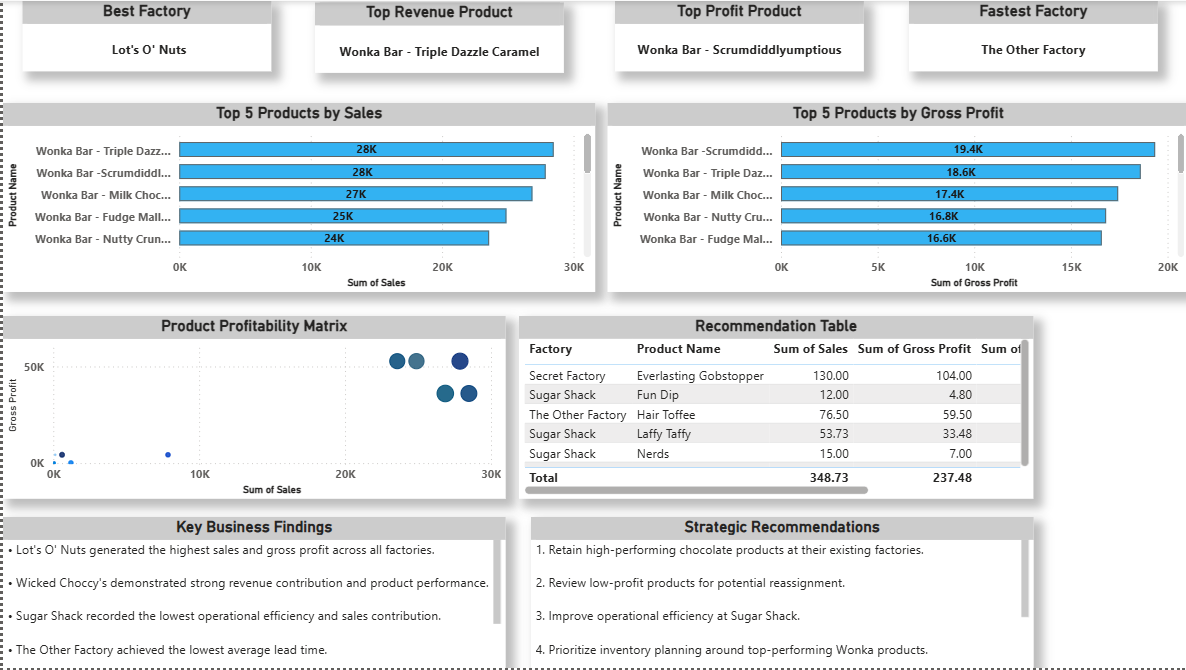

What the dashboard file says about the page in this screenshot:
{"tool":"powerbi","page":{"name":"Executive Insights & Strategic Recommendations","canvas":[1280,720],"ordinal":4},"visuals":[{"type":"textbox","title":"Best Factory","box":[21,0,268.8,76.1],"z":0},{"type":"textbox","title":"Top Revenue Product","box":[336.8,1.6,268.8,76.1],"z":1000},{"type":"textbox","title":"Top Profit Product","box":[660.6,0,268.8,76.1],"z":2000},{"type":"textbox","title":"Fastest Factory","box":[978,0,268.8,76.1],"z":3000},{"type":"clusteredBarChart","title":"Top 5 Products by Sales","fields":{"Category":["Factory_Recommendations.Product Name"],"Y":["Sum(Nassau Candy Distributor (1).Sales)"]},"box":[0,110.1,639.6,204],"z":4000},{"type":"clusteredBarChart","title":"Top 5 Products by Gross Profit","fields":{"Category":["Factory_Recommendations.Product Name"],"Y":["Sum(Factory_Recommendations.Gross Profit)"]},"box":[652.5,110.1,628.3,204],"z":5000},{"type":"scatterChart","title":"Product Profitability Matrix","fields":{"Y":["Factory_Summary.Gross Profit"],"X":["Sum(Factory_Recommendations.Sales)"],"Series":["Factory_Recommendations.Product Name"],"Size":["Sum(Factory_Recommendations.Units)"]},"box":[0,340,542.4,197.5],"z":6000},{"type":"tableEx","title":"Recommendation Table","fields":{"Values":["Factory_Recommendations.Factory","Factory_Recommendations.Product Name","Sum(Factory_Recommendations.Sales)","Sum(Factory_Recommendations.Gross Profit)","Sum(Factory_Recommendations.Lead_time)","Factory_Recommendations.Recommendation"]},"box":[557,340,555.4,197.5],"z":7000},{"type":"textbox","title":"Key Business Findings","box":[0,557,542.4,163.5],"z":8000},{"type":"textbox","title":"Strategic Recommendations","box":[570,557,542.4,163.5],"z":9000}]}

Visuals, with their boxes in screenshot pixels (x1, y1, x2, y2), scaled from the page's 1280x720 canvas onto the 1186x670 screenshot:
"Best Factory" textbox: l=19, t=0, r=269, b=71
"Top Revenue Product" textbox: l=312, t=1, r=561, b=72
"Top Profit Product" textbox: l=612, t=0, r=861, b=71
"Fastest Factory" textbox: l=906, t=0, r=1155, b=71
"Top 5 Products by Sales" clusteredBarChart: l=0, t=102, r=593, b=292
"Top 5 Products by Gross Profit" clusteredBarChart: l=605, t=102, r=1185, b=292
"Product Profitability Matrix" scatterChart: l=0, t=316, r=503, b=500
"Recommendation Table" tableEx: l=516, t=316, r=1031, b=500
"Key Business Findings" textbox: l=0, t=518, r=503, b=669
"Strategic Recommendations" textbox: l=528, t=518, r=1031, b=669
